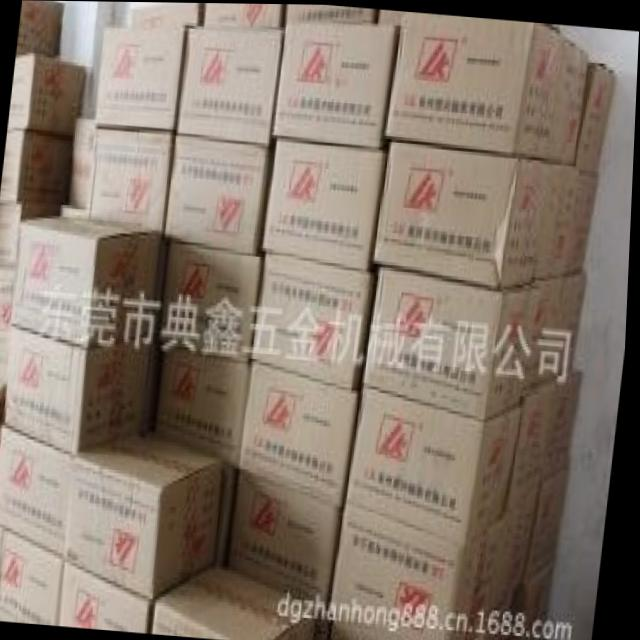box: (376, 8, 589, 159), (68, 429, 227, 601), (363, 265, 537, 417), (351, 387, 522, 539), (376, 138, 550, 287), (333, 500, 507, 640), (13, 213, 163, 347), (8, 326, 160, 454), (240, 357, 363, 508), (253, 247, 375, 389), (264, 137, 389, 268), (272, 23, 401, 149), (233, 465, 344, 609), (173, 24, 282, 145), (163, 239, 266, 366), (164, 134, 269, 250), (158, 565, 320, 640), (160, 344, 252, 464), (0, 428, 77, 559), (98, 24, 188, 131), (88, 128, 175, 230), (489, 484, 547, 625), (61, 561, 161, 633), (0, 525, 68, 622), (509, 382, 558, 513), (8, 53, 88, 132), (0, 132, 76, 203), (536, 156, 579, 278), (529, 468, 572, 584), (524, 275, 567, 388), (0, 202, 67, 268), (577, 60, 616, 172), (547, 373, 586, 481), (517, 558, 563, 640), (569, 159, 601, 275), (558, 268, 589, 379), (68, 117, 98, 209), (16, 0, 60, 57), (284, 3, 379, 25), (202, 2, 284, 23), (132, 2, 205, 23), (0, 266, 19, 330)
